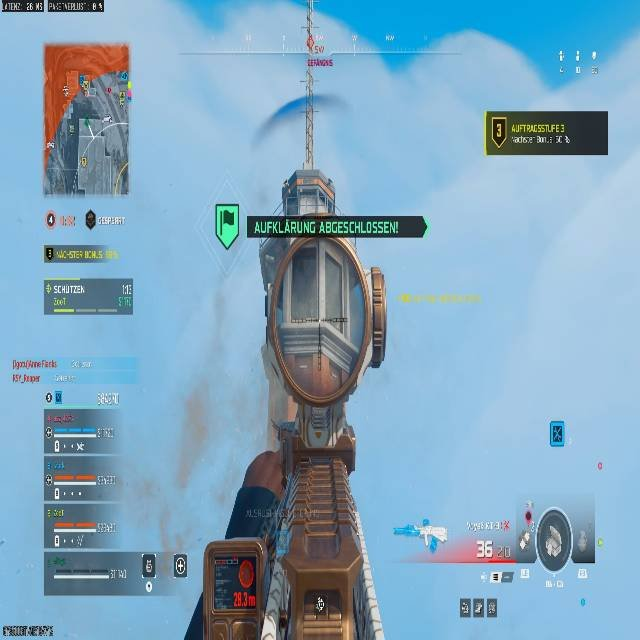player: (224, 306, 395, 640)
